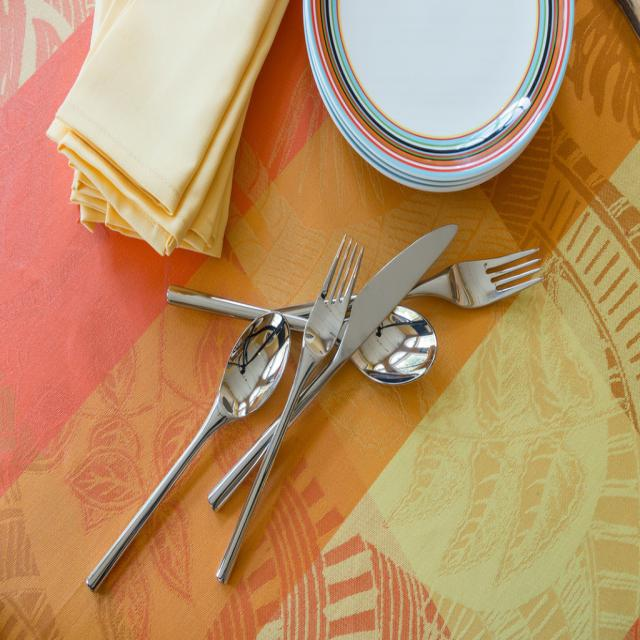non-organic waste: (293, 6, 618, 190)
